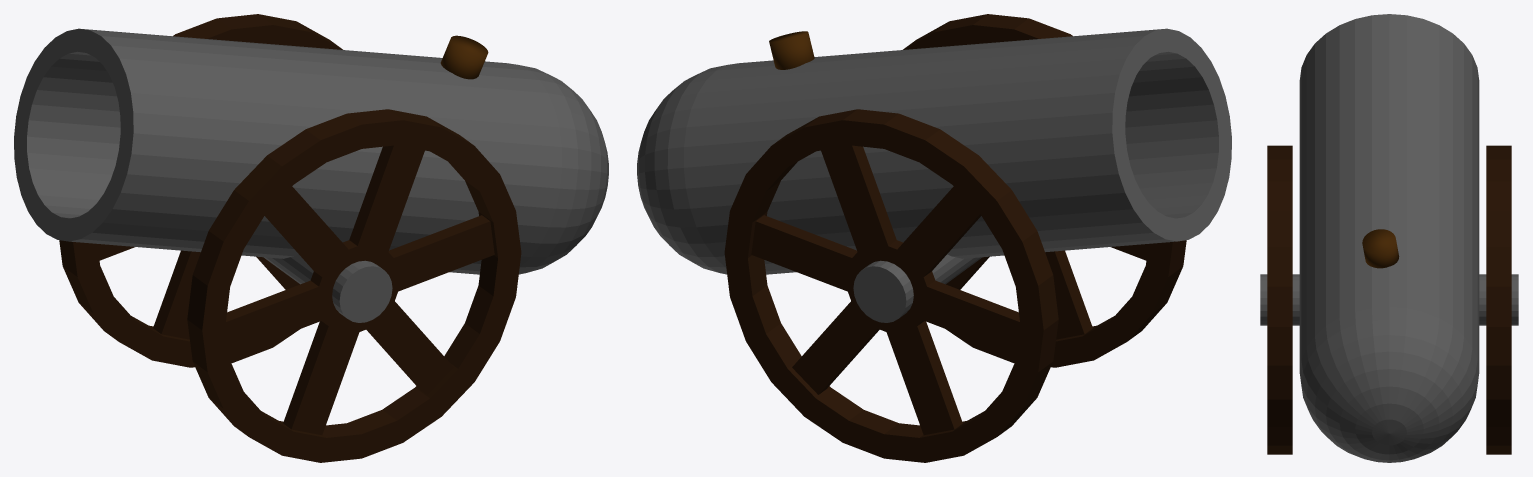
File: Cannon.fbx
The picture shows the model from 3 angles, left to right: view 1: azimuth 30°, elevation 25°; view 2: azimuth 150°, elevation 25°; view 3: azimuth 270°, elevation 25°; orthographic projection. The views are drawn at different scales.
Visible parts, largest first — view 1: tube, wheel1, wheel2, cylinder, fuse; view 2: tube, wheel2, wheel1, cylinder, fuse; view 3: tube, wheel1, wheel2, cylinder, fuse.
Boxes of the visible parts, bbox=[...] form: tube: bbox=[14, 28, 608, 274]; wheel1: bbox=[187, 109, 521, 462]; wheel2: bbox=[59, 14, 342, 367]; cylinder: bbox=[264, 254, 392, 322]; fuse: bbox=[440, 35, 488, 79]; tube: bbox=[637, 28, 1231, 274]; wheel2: bbox=[724, 109, 1058, 462]; wheel1: bbox=[903, 14, 1186, 367]; cylinder: bbox=[853, 254, 981, 322]; fuse: bbox=[769, 31, 814, 69]; tube: bbox=[1299, 14, 1479, 462]; wheel1: bbox=[1267, 145, 1292, 454]; wheel2: bbox=[1486, 145, 1511, 454]; cylinder: bbox=[1260, 274, 1518, 325]; fuse: bbox=[1362, 229, 1399, 268].
Bounding box in the file's own units: 486 × 352 × 236.
